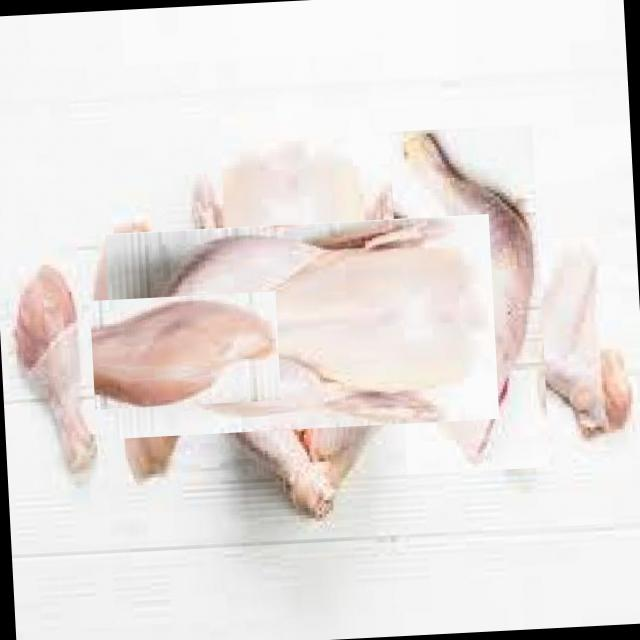chicken: (147, 172, 457, 482), (389, 123, 551, 474), (48, 254, 245, 451), (510, 234, 640, 445), (5, 262, 99, 484)
